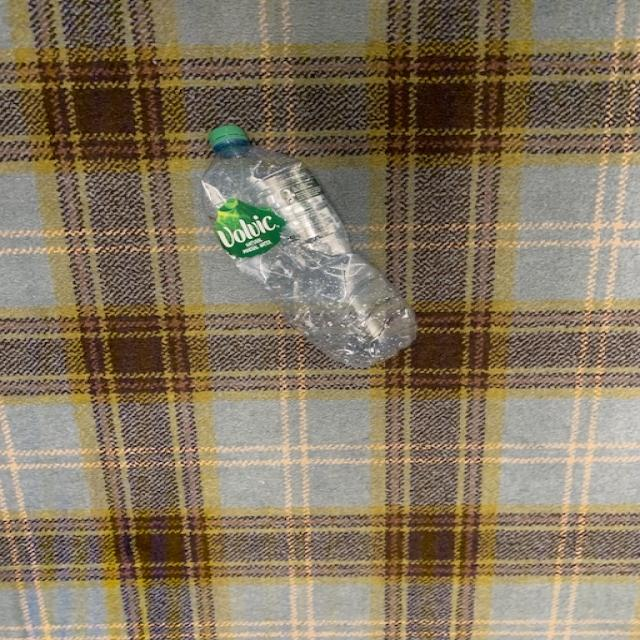Waste: (201, 125, 418, 368)
